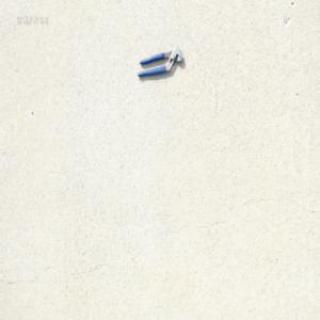Pliertrack_idkeyframe: (135, 44, 183, 77)
